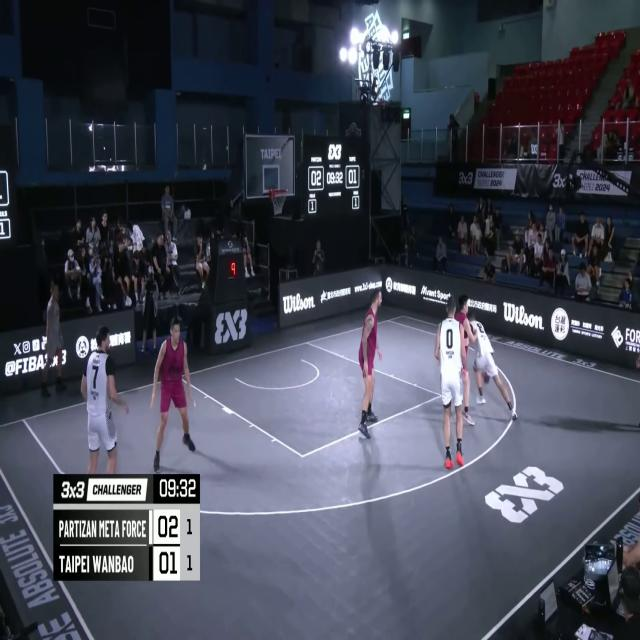ball: (479, 364, 492, 387)
hoop: (269, 184, 289, 220)
player: (151, 315, 196, 476), (81, 326, 128, 476), (434, 296, 466, 468), (468, 311, 515, 421), (354, 287, 382, 443), (455, 296, 480, 430)
